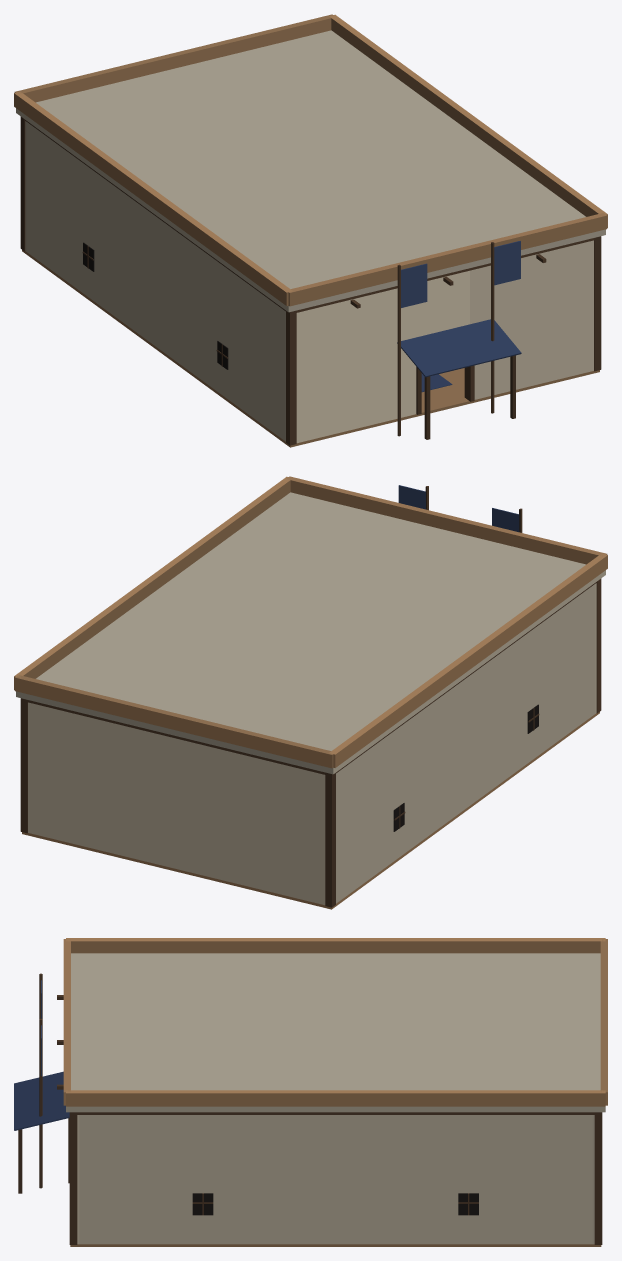
The model's file is walk_sunborn_hall.glb.
The picture shows the model from 3 angles, top to bottom: view 1: azimuth 30°, elevation 25°; view 2: azimuth 150°, elevation 25°; view 3: azimuth 270°, elevation 25°; orthographic projection.
Visible parts, largest first — view 1: walk_sunborn_hall_roof, walk_sunborn_hall; view 2: walk_sunborn_hall_roof, walk_sunborn_hall; view 3: walk_sunborn_hall_roof, walk_sunborn_hall.
Boxes of the visible parts, x1=… form: walk_sunborn_hall_roof: x1=14, y1=14, x2=607, y2=312; walk_sunborn_hall: x1=20, y1=116, x2=601, y2=447; walk_sunborn_hall_roof: x1=14, y1=476, x2=607, y2=774; walk_sunborn_hall: x1=20, y1=485, x2=601, y2=909; walk_sunborn_hall_roof: x1=63, y1=938, x2=607, y2=1112; walk_sunborn_hall: x1=14, y1=973, x2=602, y2=1246.
Size of what is drawn, in the model's own units: 12.45 by 6.3 by 20.14.
2 materials, 2 textured.
